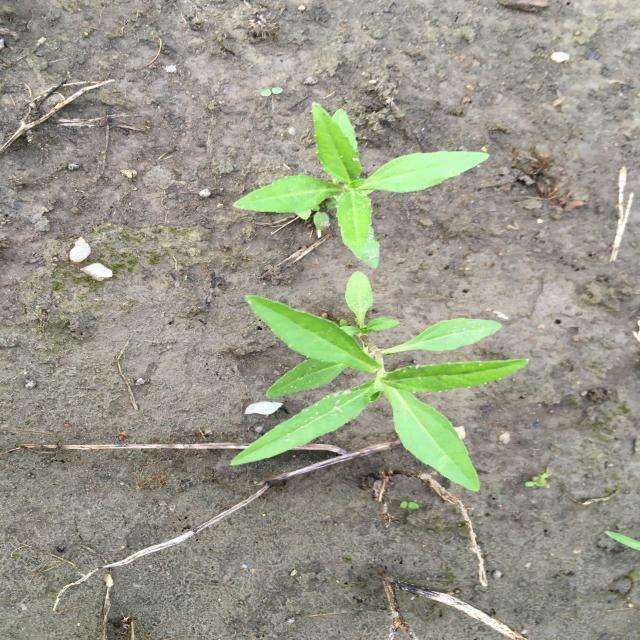Eclipta: (228, 270, 531, 493), (230, 101, 493, 272)
